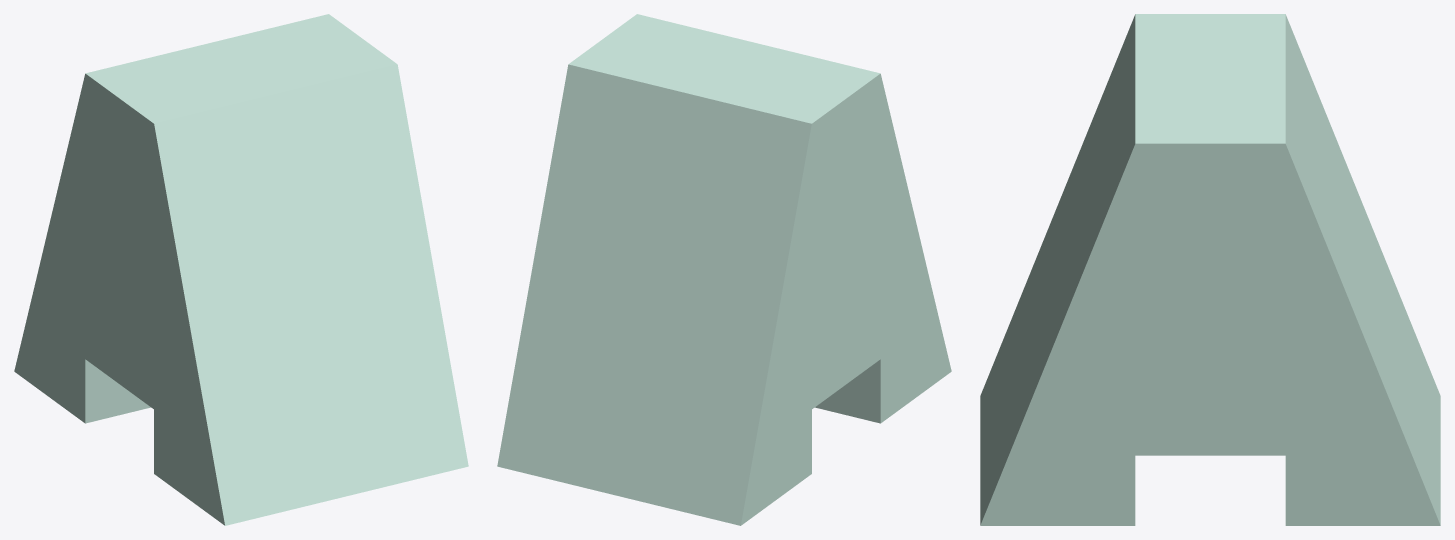
3 views of the same model, side by side, from view 1: azimuth 30°, elevation 25°; view 2: azimuth 150°, elevation 25°; view 3: azimuth 270°, elevation 25° (orthographic). The views are drawn at different scales.
Parts seen in each view (by area): view 1: Renderer Node; view 2: Renderer Node; view 3: Renderer Node.
Part boxes in pixels (left/top/right/bottom): Renderer Node: left=14, top=14, right=468, bottom=525; Renderer Node: left=497, top=14, right=951, bottom=525; Renderer Node: left=980, top=14, right=1440, bottom=525.
Bounding box in the file's own units: 0.5 × 0.6868 × 0.75.
